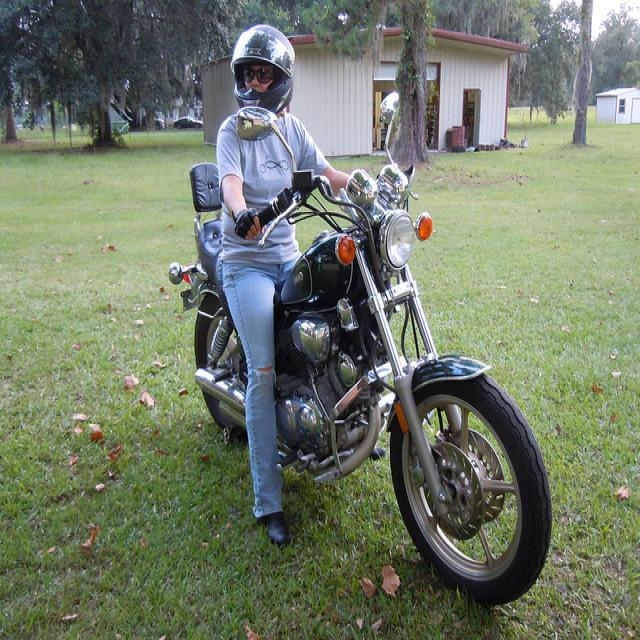motor: (173, 83, 549, 605)
